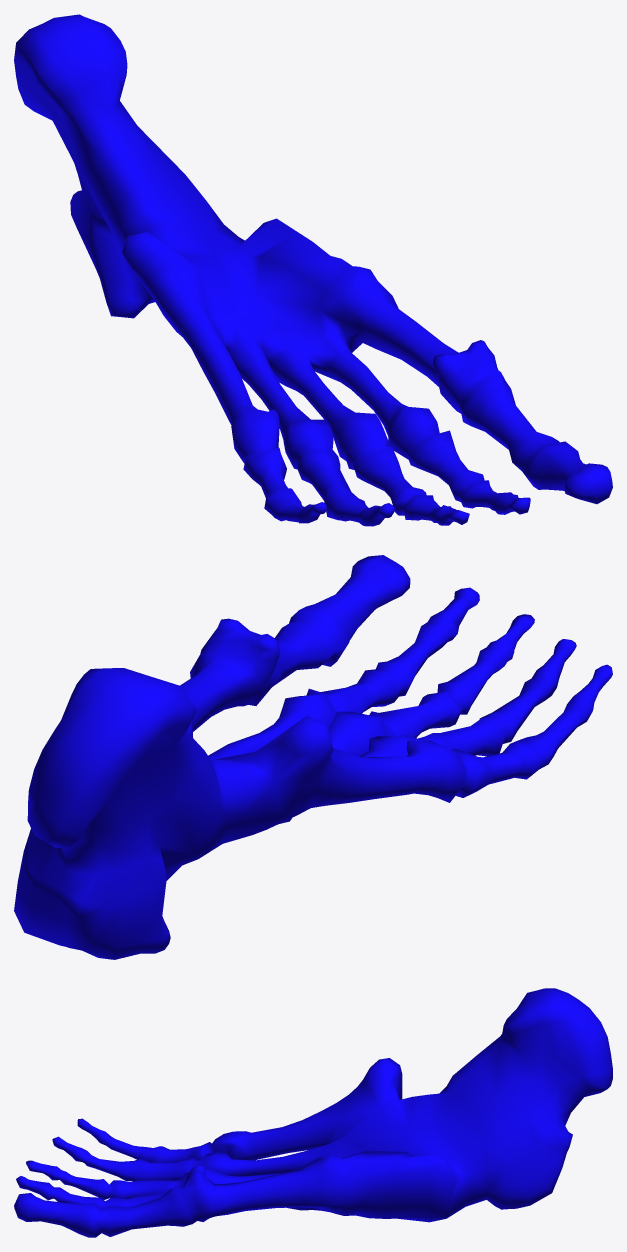
Rendered from SM_L_Foot.FBX.
The picture shows the model from 3 angles, top to bottom: view 1: azimuth 30°, elevation 25°; view 2: azimuth 150°, elevation 25°; view 3: azimuth 270°, elevation 25°; orthographic projection. The views are drawn at different scales.
Parts seen in each view (by area): view 1: L_Foot; view 2: L_Foot; view 3: L_Foot.
Part boxes in pixels (left/top/right/bottom): L_Foot: left=14, top=14, right=612, bottom=526; L_Foot: left=14, top=555, right=612, bottom=959; L_Foot: left=14, top=988, right=612, bottom=1237.
Bounding box in the file's own units: 9.77 × 9.65 × 26.55.
